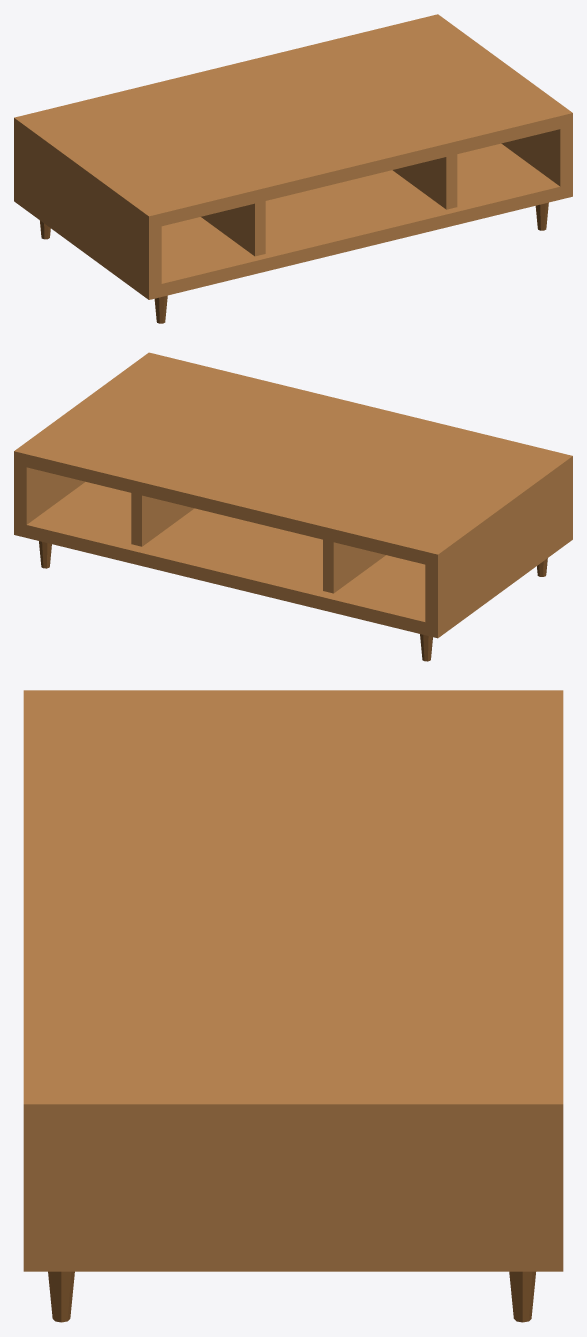
The model's file is tableTV_mdl.fbx.
The picture shows the model from 3 angles, top to bottom: view 1: azimuth 30°, elevation 25°; view 2: azimuth 150°, elevation 25°; view 3: azimuth 270°, elevation 25°; orthographic projection. The views are drawn at different scales.
Parts seen in each view (by area): view 1: tableTV_geo; view 2: tableTV_geo; view 3: tableTV_geo.
Boxes of the visible parts, x1=… form: tableTV_geo: x1=14, y1=14, x2=572, y2=323; tableTV_geo: x1=14, y1=352, x2=572, y2=661; tableTV_geo: x1=23, y1=690, x2=563, y2=1322.
Bounding box in the file's own units: 2.24 × 0.5933 × 1.23.
